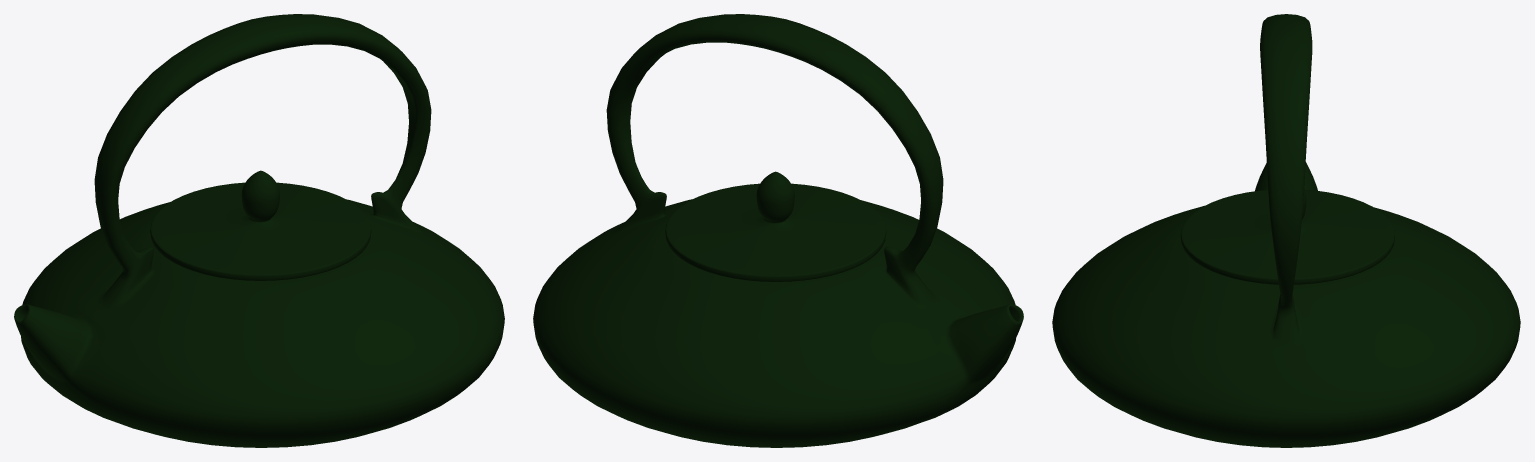
Rendered from Tetera.fbx.
3 renders of one model, left to right at view 1: azimuth 30°, elevation 25°; view 2: azimuth 150°, elevation 25°; view 3: azimuth 270°, elevation 25°, orthographic. The views are drawn at different scales.
Visible parts, largest first — view 1: Cylinder.004; view 2: Cylinder.004; view 3: Cylinder.004.
Boxes of the visible parts, left/top/right/bottom form: Cylinder.004: left=14, top=14, right=504, bottom=447; Cylinder.004: left=533, top=14, right=1023, bottom=447; Cylinder.004: left=1052, top=14, right=1520, bottom=447.
Size of the model in its own units: 809 by 639 by 740.
